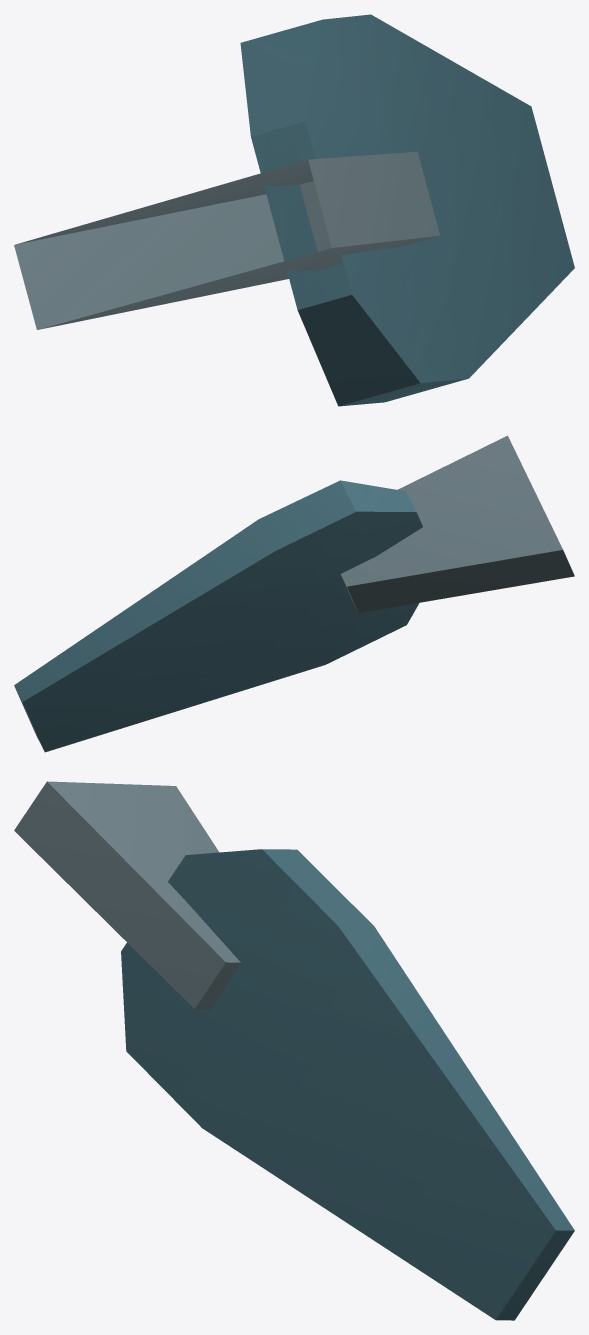
The model's file is Drone_009_wing_001.fbx.
3 views of the same model, one above another, from view 1: azimuth 30°, elevation 25°; view 2: azimuth 150°, elevation 25°; view 3: azimuth 270°, elevation 25° (orthographic). The views are drawn at different scales.
Visible parts, largest first — view 1: Drone_009_wing_001; view 2: Drone_009_wing_001; view 3: Drone_009_wing_001.
Part boxes in pixels (x1,y1,x2,y2): Drone_009_wing_001: [14, 14, 574, 406]; Drone_009_wing_001: [14, 435, 574, 752]; Drone_009_wing_001: [14, 781, 574, 1320].
Bounding box in the file's own units: 21.23 × 18.81 × 12.94.
